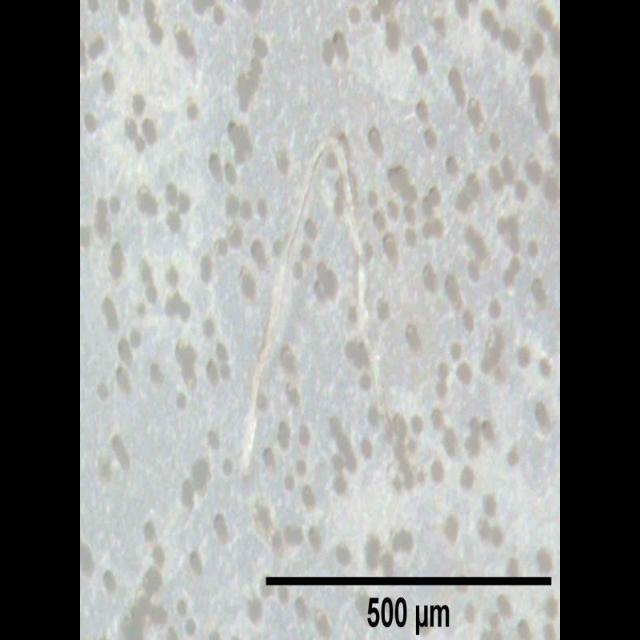Fibre: (233, 132, 394, 500)
